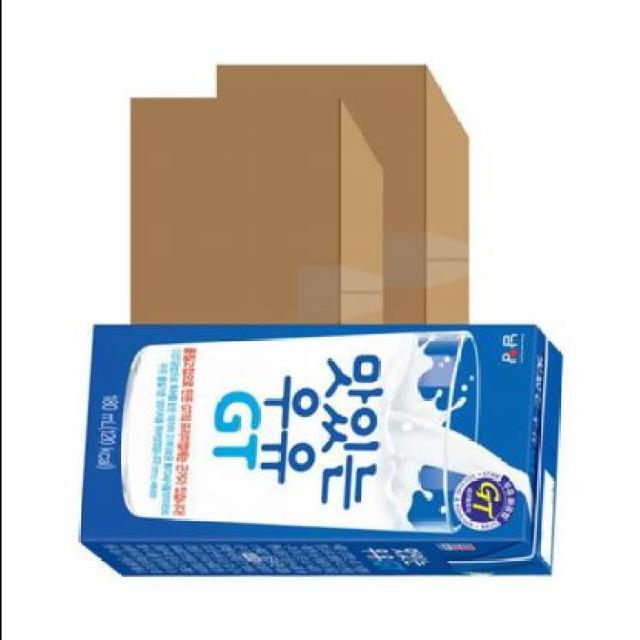tetra: (65, 313, 603, 602)
